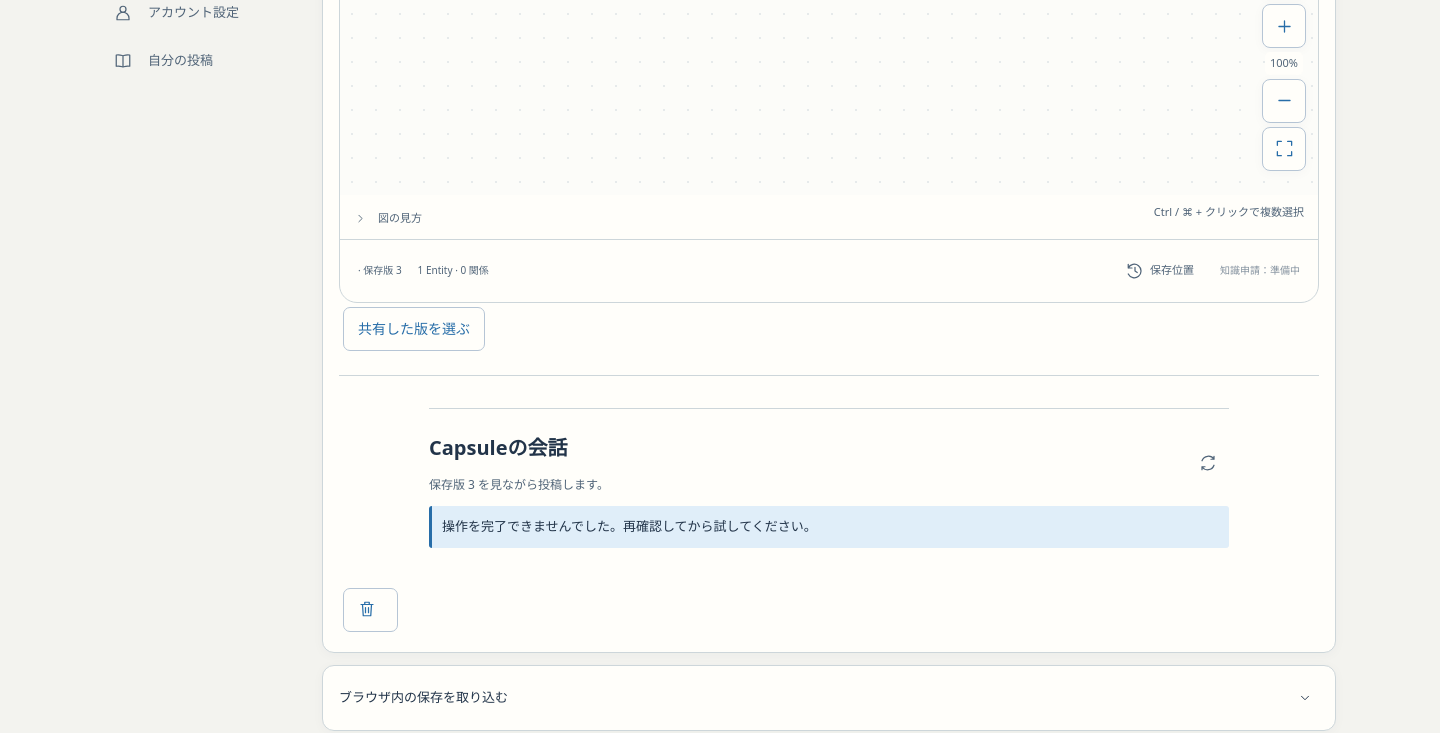
Scenario: 共有済み版の所有者再閲覧 › 版の一覧取得でsessionが失効したら親のprivate本文も閉じる
(page scrolled)
What coordinates should you click on to do the following:
click the button "共有した版を選ぶ"
I would click on:
 (414, 328)
Its box is [343, 306, 485, 350].
(page scrolled)
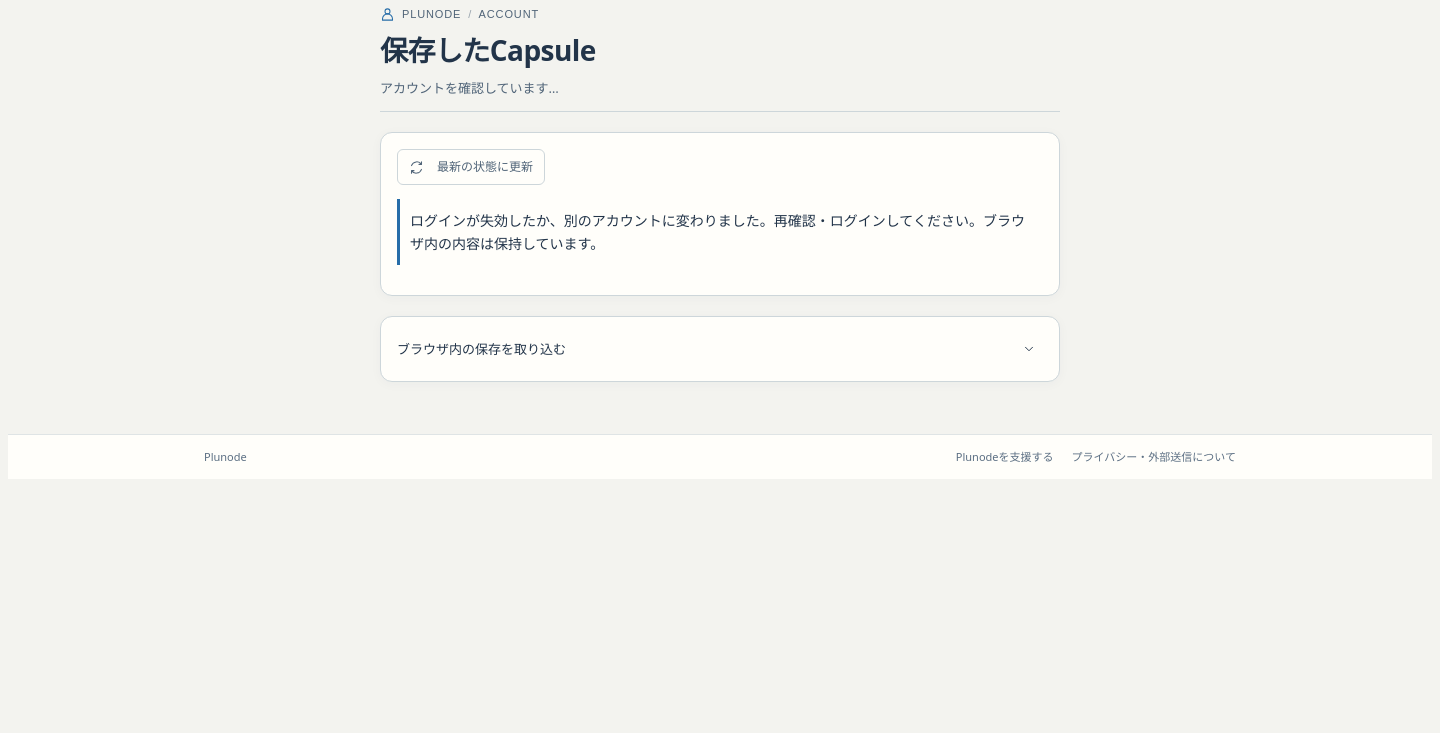
Expected: the text "ログインが失効したか、別のアカウントに変わりました。再確認・ログインしてください。ブラウザ内の内容は保持しています。" is shown, [397, 199, 1043, 265]
